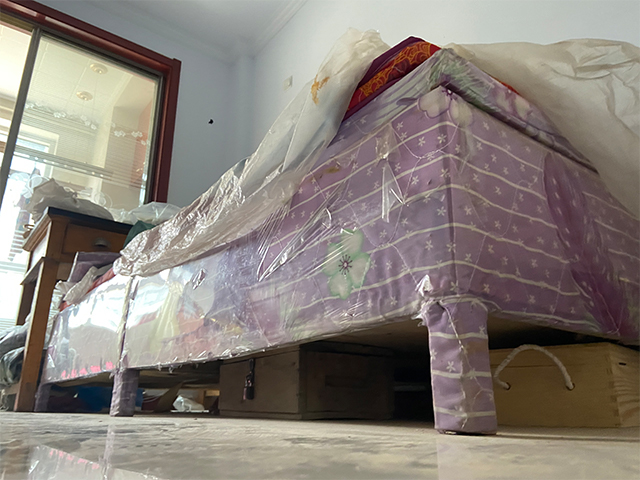bed: (35, 46, 640, 437)
table: (12, 205, 136, 413)
